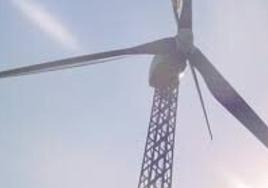faulty: (147, 4, 203, 75)
